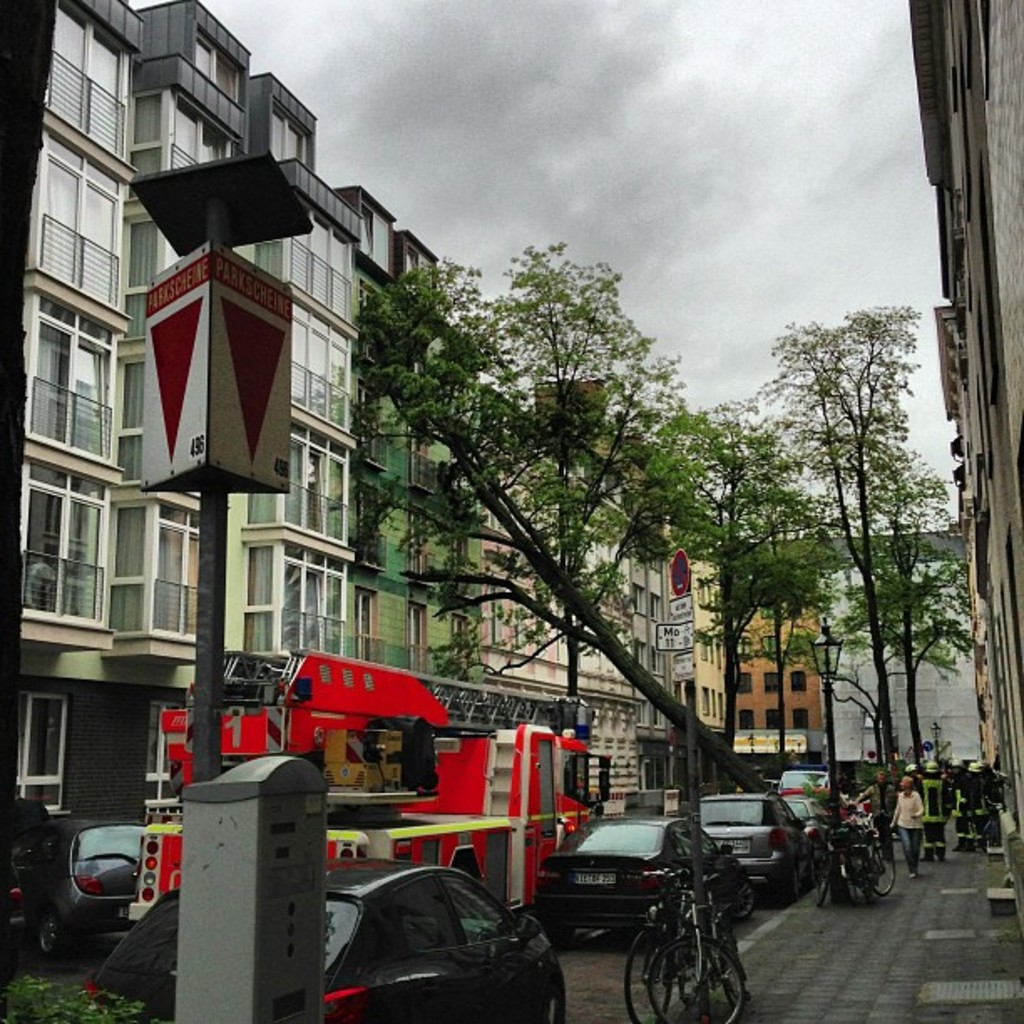Car: (81, 861, 567, 1022), (537, 814, 751, 943), (8, 811, 148, 963), (699, 791, 803, 896), (779, 789, 831, 848), (0, 856, 25, 962)
